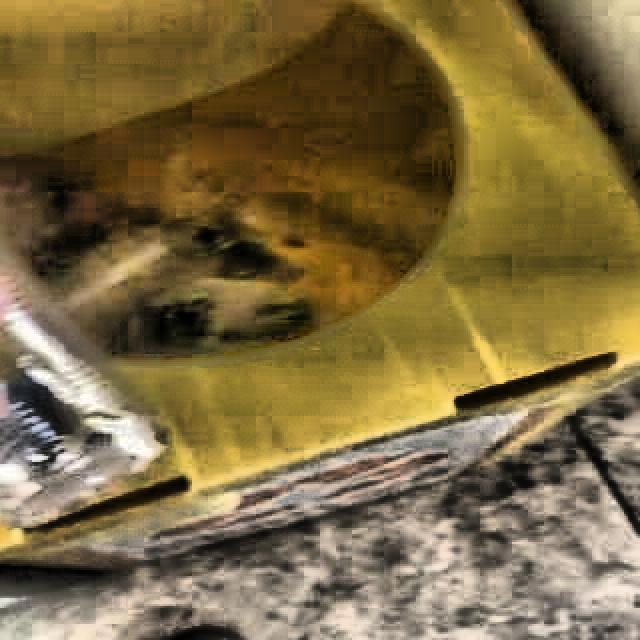plastic: (0, 239, 163, 529)
